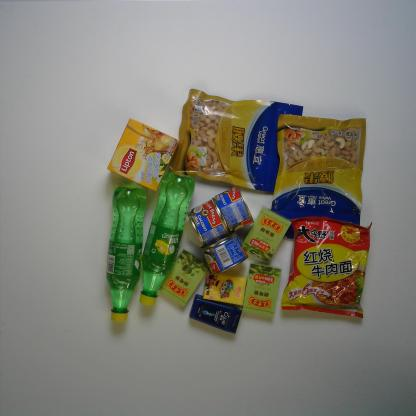Candy: (158, 248, 210, 308), (240, 204, 291, 262), (242, 262, 282, 318)
Canned Food: (200, 231, 249, 276), (187, 197, 231, 246), (214, 185, 254, 233)
Dried Fruit: (168, 88, 304, 194), (270, 113, 366, 239)
Drink: (139, 171, 196, 305), (105, 186, 147, 323)
Instant Drink: (106, 118, 180, 192)
Instant Noodles: (280, 216, 372, 320)
Personal Hygiene: (189, 294, 242, 334)
Tissue: (202, 273, 247, 306)
